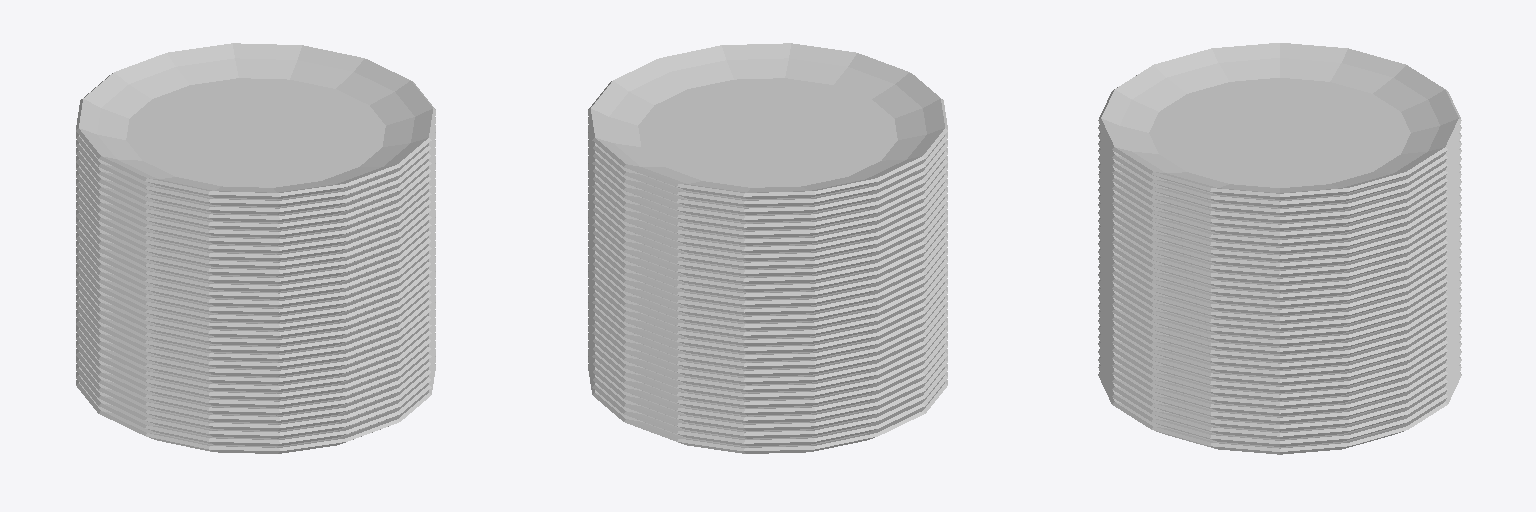
File: PlateStack_3.obj
3 renders of one model, left to right at view 1: azimuth 30°, elevation 25°; view 2: azimuth 150°, elevation 25°; view 3: azimuth 270°, elevation 25°, orthographic.
Visible parts, largest first — view 1: pSphere53; view 2: pSphere53; view 3: pSphere53.
Boxes of the visible parts, <box> form: pSphere53: <box>76,43,435,453</box>; pSphere53: <box>588,43,947,453</box>; pSphere53: <box>1098,43,1461,454</box>.
Bounding box in the file's own units: 4.4 × 3.68 × 4.4.